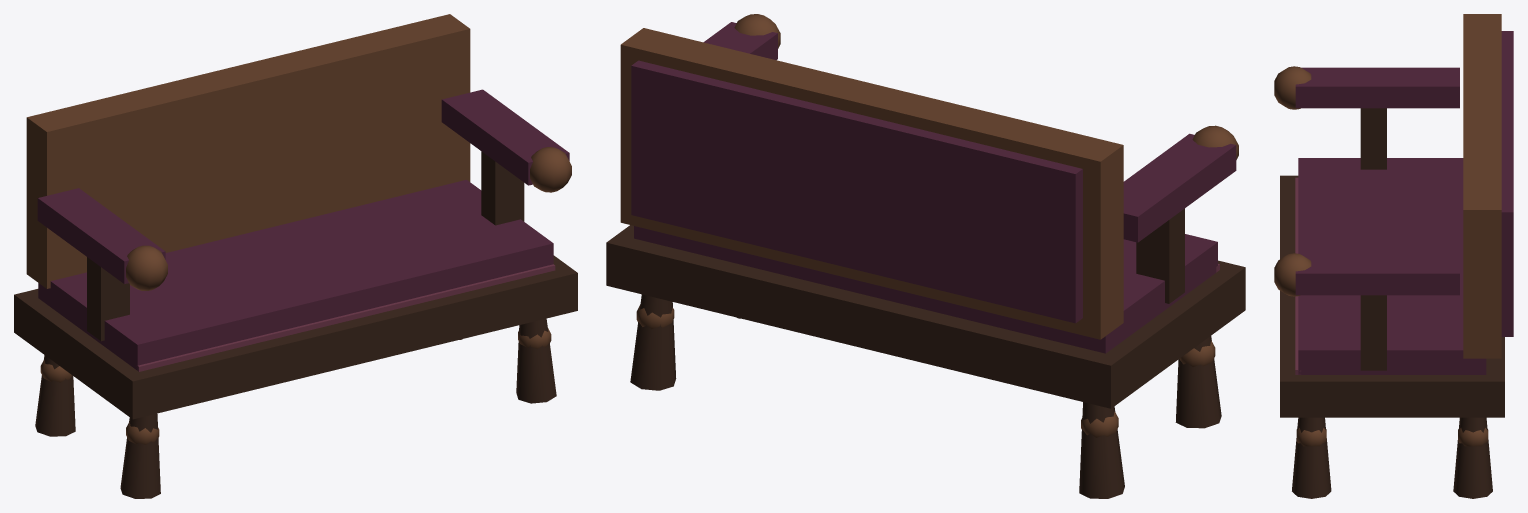
The model's file is settee.glb.
The picture shows the model from 3 angles, left to right: view 1: azimuth 30°, elevation 25°; view 2: azimuth 150°, elevation 25°; view 3: azimuth 270°, elevation 25°; orthographic projection. The views are drawn at different scales.
Size of the model in its own units: 1.84 by 1.2 by 0.904.
